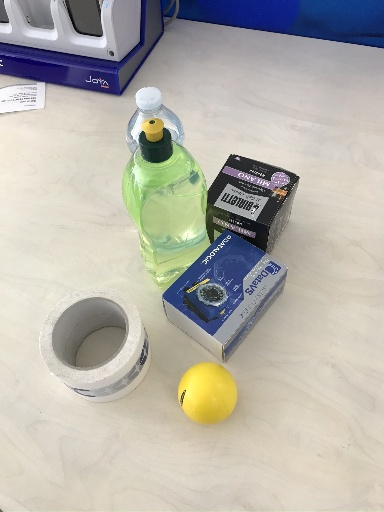Acqua: (124, 87, 189, 153)
Box: (161, 230, 292, 361)
Caffe: (205, 155, 300, 254)
Nastro: (40, 285, 151, 404)
Palla: (178, 361, 239, 430)
Sapone: (122, 119, 210, 286)
